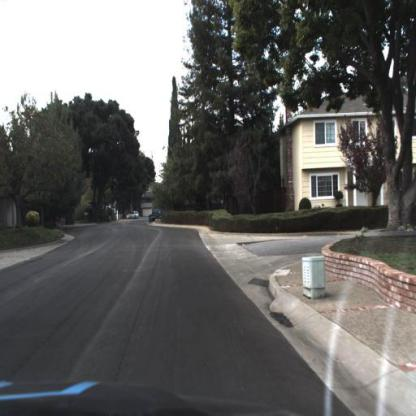car: (153, 200, 169, 222), (129, 212, 137, 220), (134, 212, 140, 220)
